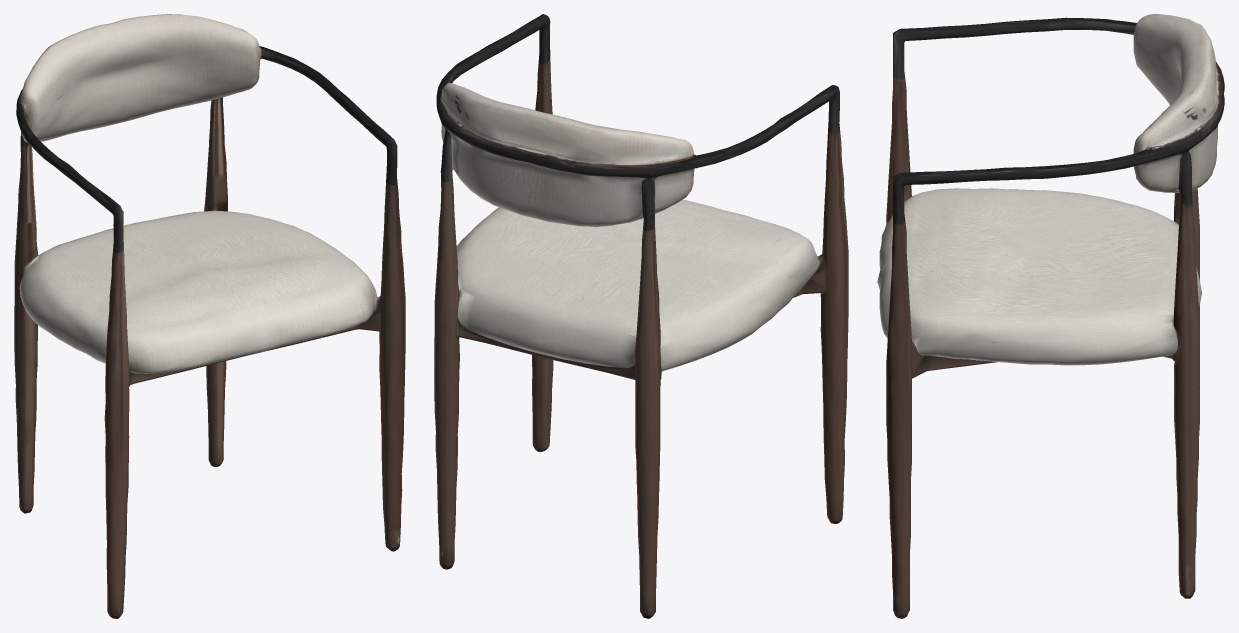
Rendered from Luma_Dining_Chair_0404021407_texture.glb.
The picture shows the model from 3 angles, left to right: view 1: azimuth 30°, elevation 25°; view 2: azimuth 150°, elevation 25°; view 3: azimuth 270°, elevation 25°; orthographic projection. The views are drawn at different scales.
Parts seen in each view (by area): view 1: Mesh_0; view 2: Mesh_0; view 3: Mesh_0.
Boxes of the visible parts, x1,y1,x2,y2 form: Mesh_0: (14, 14, 405, 618); Mesh_0: (434, 14, 848, 618); Mesh_0: (877, 14, 1224, 618).
Bounding box in the file's own units: 0.5469 × 0.8128 × 0.5168.
Materials: 1 (1 with a texture image).
